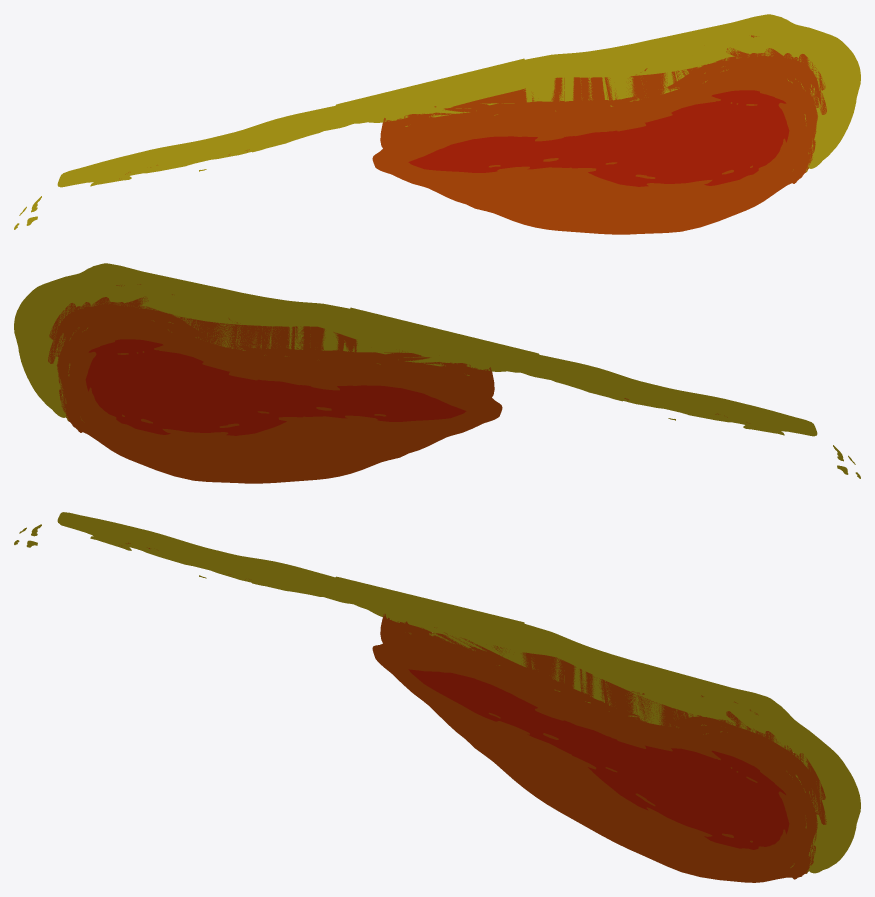
The picture shows the model from 3 angles, top to bottom: view 1: azimuth 30°, elevation 25°; view 2: azimuth 150°, elevation 25°; view 3: azimuth 330°, elevation 25°; orthographic projection.
Visible parts, largest first — view 1: Mesh_4; view 2: Mesh_4; view 3: Mesh_4.
Part boxes in pixels (x1=…): Mesh_4: x1=14, y1=14, x2=860, y2=234; Mesh_4: x1=14, y1=263, x2=860, y2=483; Mesh_4: x1=14, y1=512, x2=860, y2=882.
Bounding box in the file's own units: 1339 × 320 × 0.
